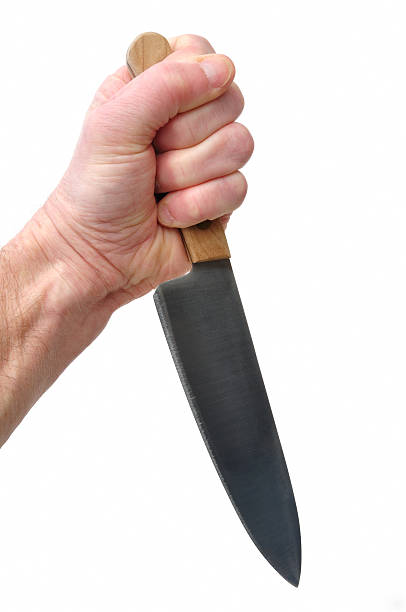knife: (124, 30, 303, 589)
